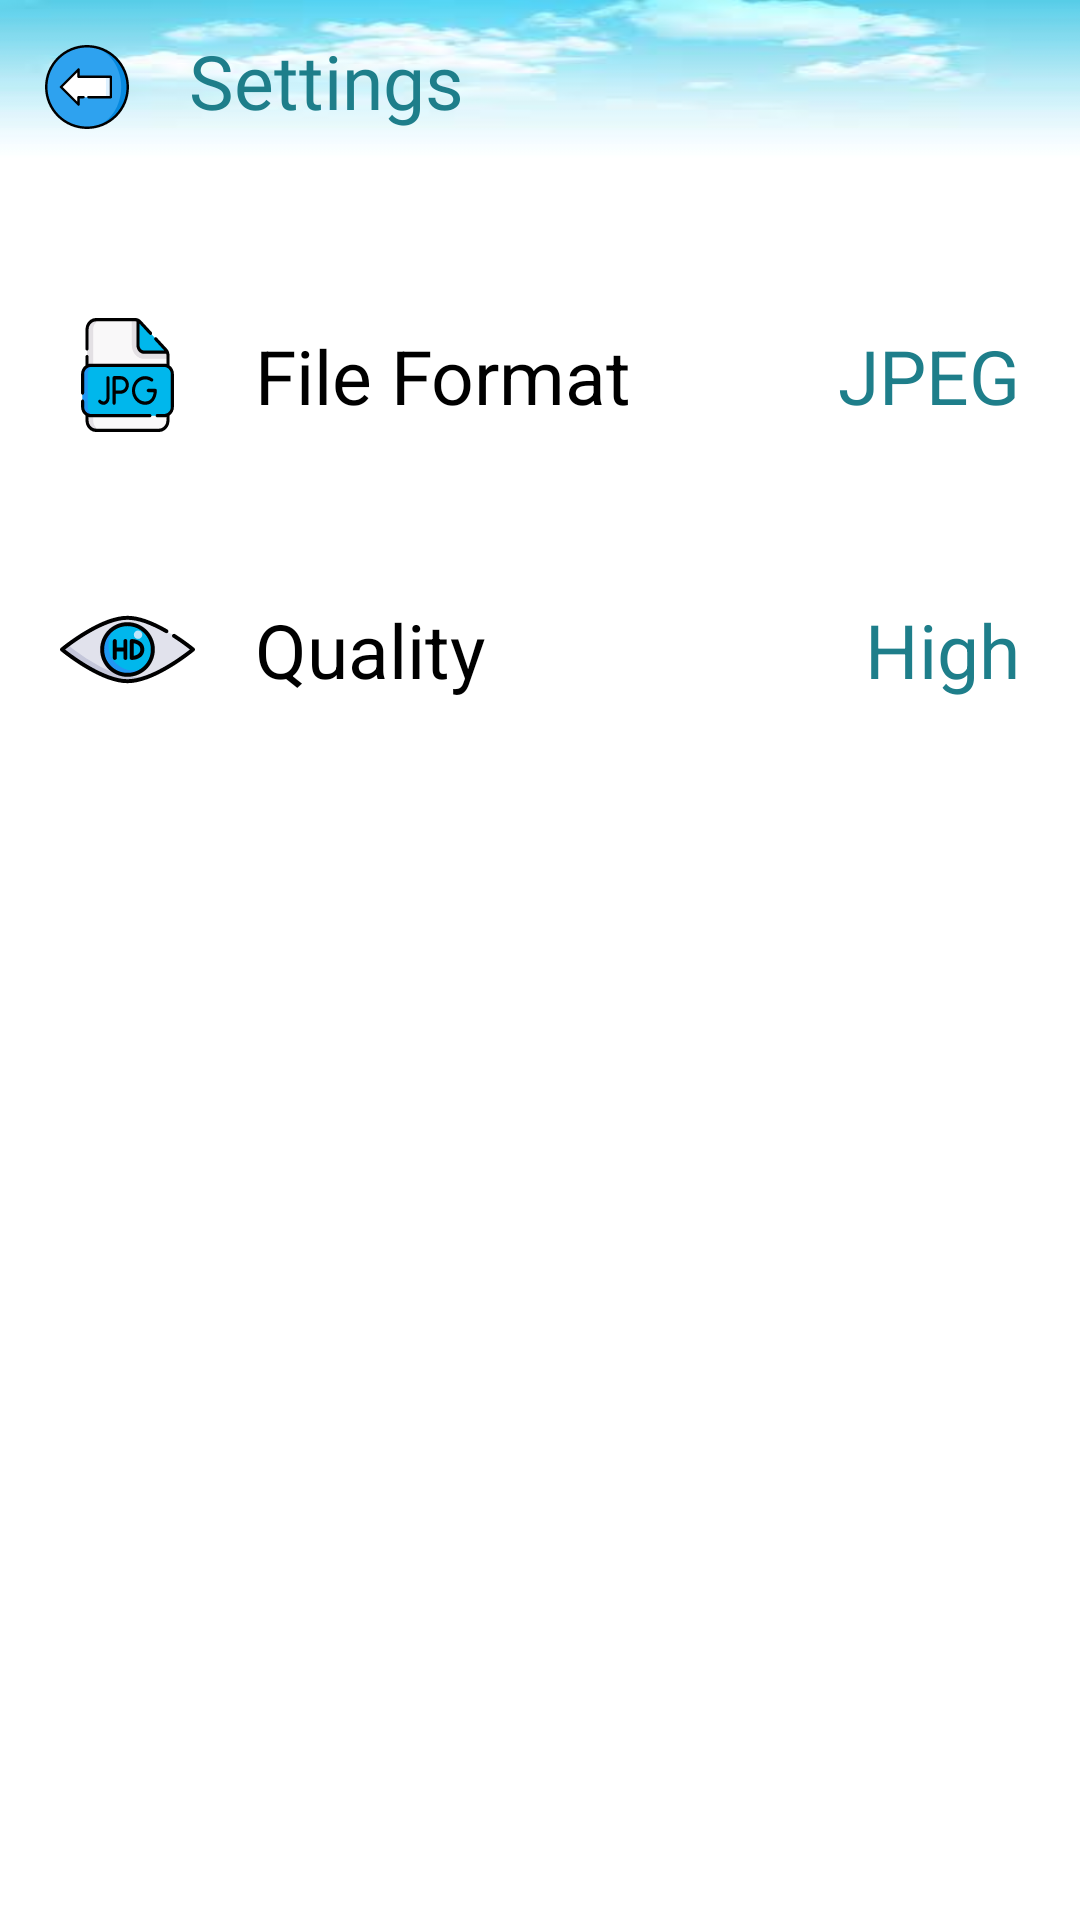

Named icons in this screenshot (1080x1920) and their centers, point (x, y):
back arrow: point (87, 87)
